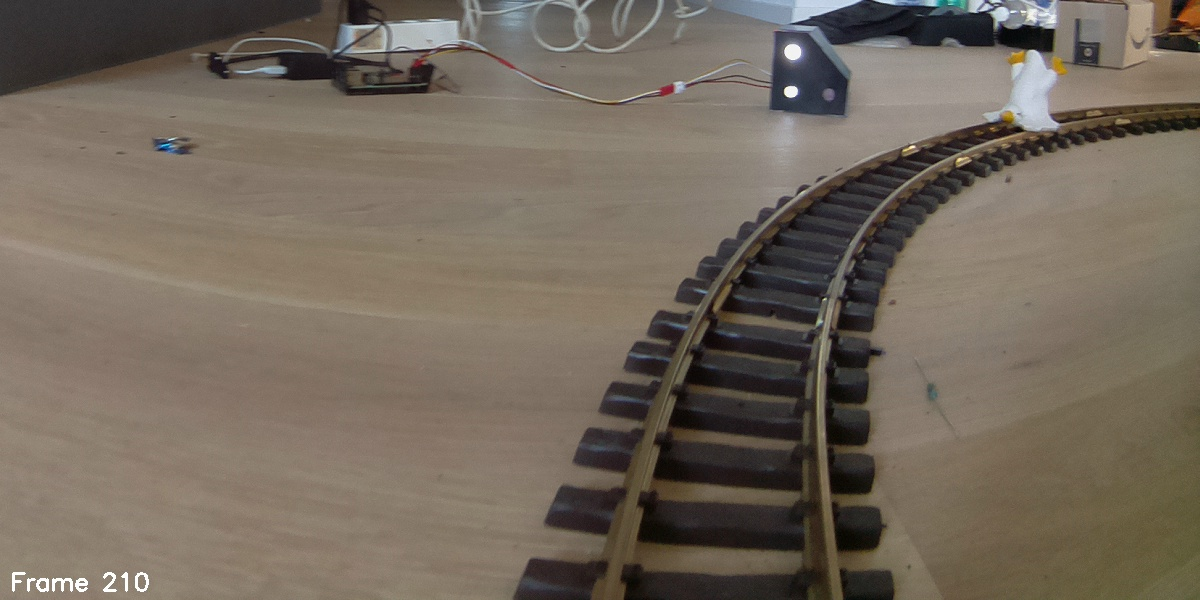Ente: (978, 47, 1064, 141)
Fahrt: (768, 25, 850, 114)
